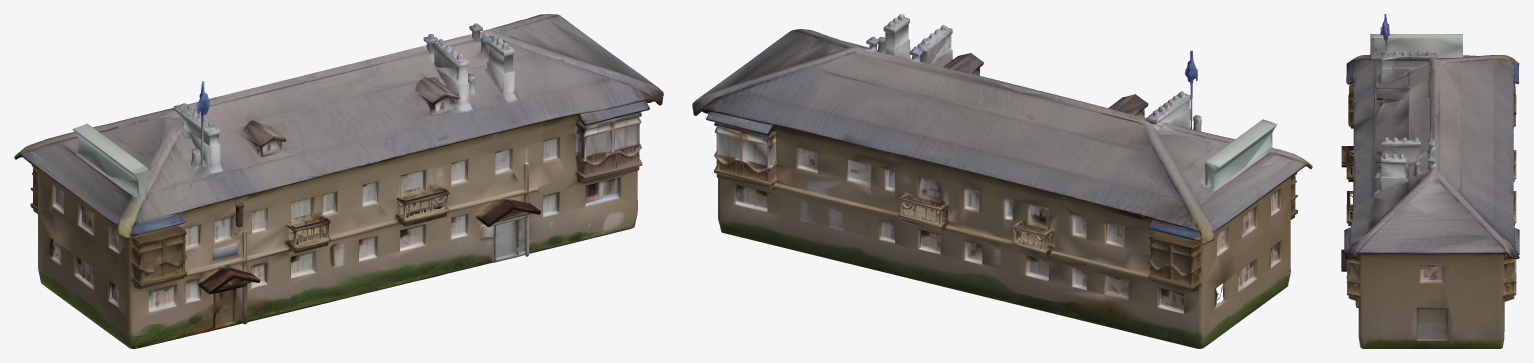
The model's file is 2ухЭтажка.fbx.
3 renders of one model, left to right at view 1: azimuth 30°, elevation 25°; view 2: azimuth 150°, elevation 25°; view 3: azimuth 270°, elevation 25°, orthographic. The views are drawn at different scales.
Visible parts, largest first — view 1: texture_pbr_v128.002; view 2: texture_pbr_v128.002; view 3: texture_pbr_v128.002.
Part boxes in pixels (box(x1,y1,x2,y2)): texture_pbr_v128.002: box(14, 14, 663, 348); texture_pbr_v128.002: box(692, 14, 1312, 348); texture_pbr_v128.002: box(1341, 14, 1519, 348).
Size of the model in its own units: 113 by 46.84 by 42.05.
Materials: 1 (1 with a texture image).
